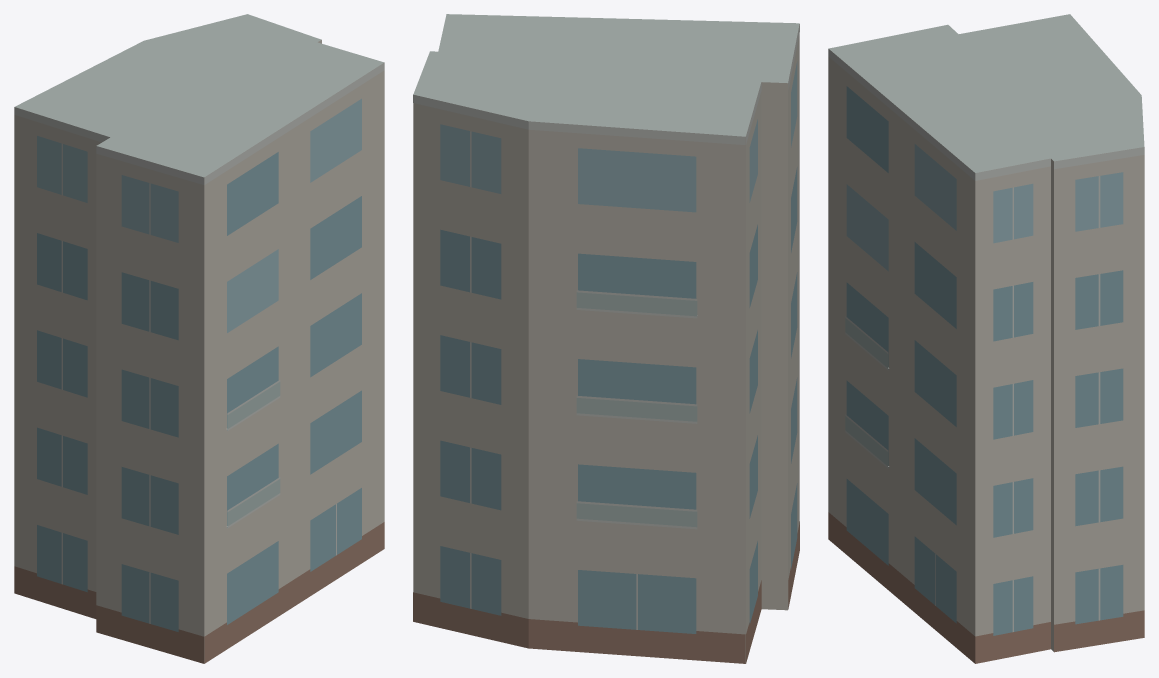
File: survey-upis-32740472.glb
3 views of the same model, side by side, from view 1: azimuth 30°, elevation 25°; view 2: azimuth 150°, elevation 25°; view 3: azimuth 270°, elevation 25° (orthographic). The views are drawn at different scales.
Visible parts, largest first — view 1: survey-upis-32740472.tmp; view 2: survey-upis-32740472.tmp; view 3: survey-upis-32740472.tmp.
Part boxes in pixels (x1,y1,x2,y2): survey-upis-32740472.tmp: (14,14,384,663); survey-upis-32740472.tmp: (413,14,799,663); survey-upis-32740472.tmp: (828,14,1144,663).
Bounding box in the file's own units: 10.61 × 15.25 × 8.91.
